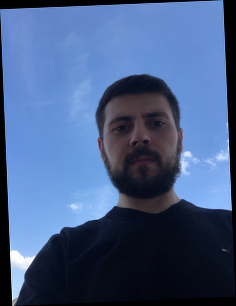without_mask: (103, 108, 179, 200)
